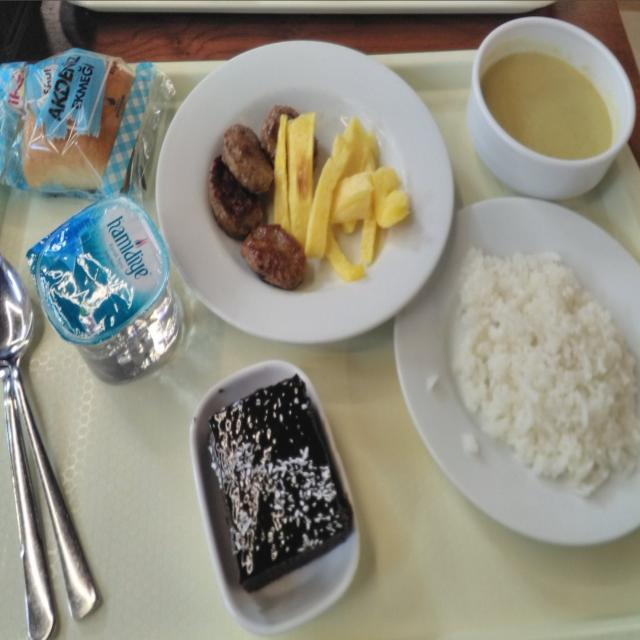ana_yemek: (156, 39, 448, 344), (393, 195, 640, 545)
corba: (467, 16, 634, 200)
yan_yemek: (190, 360, 358, 633)
